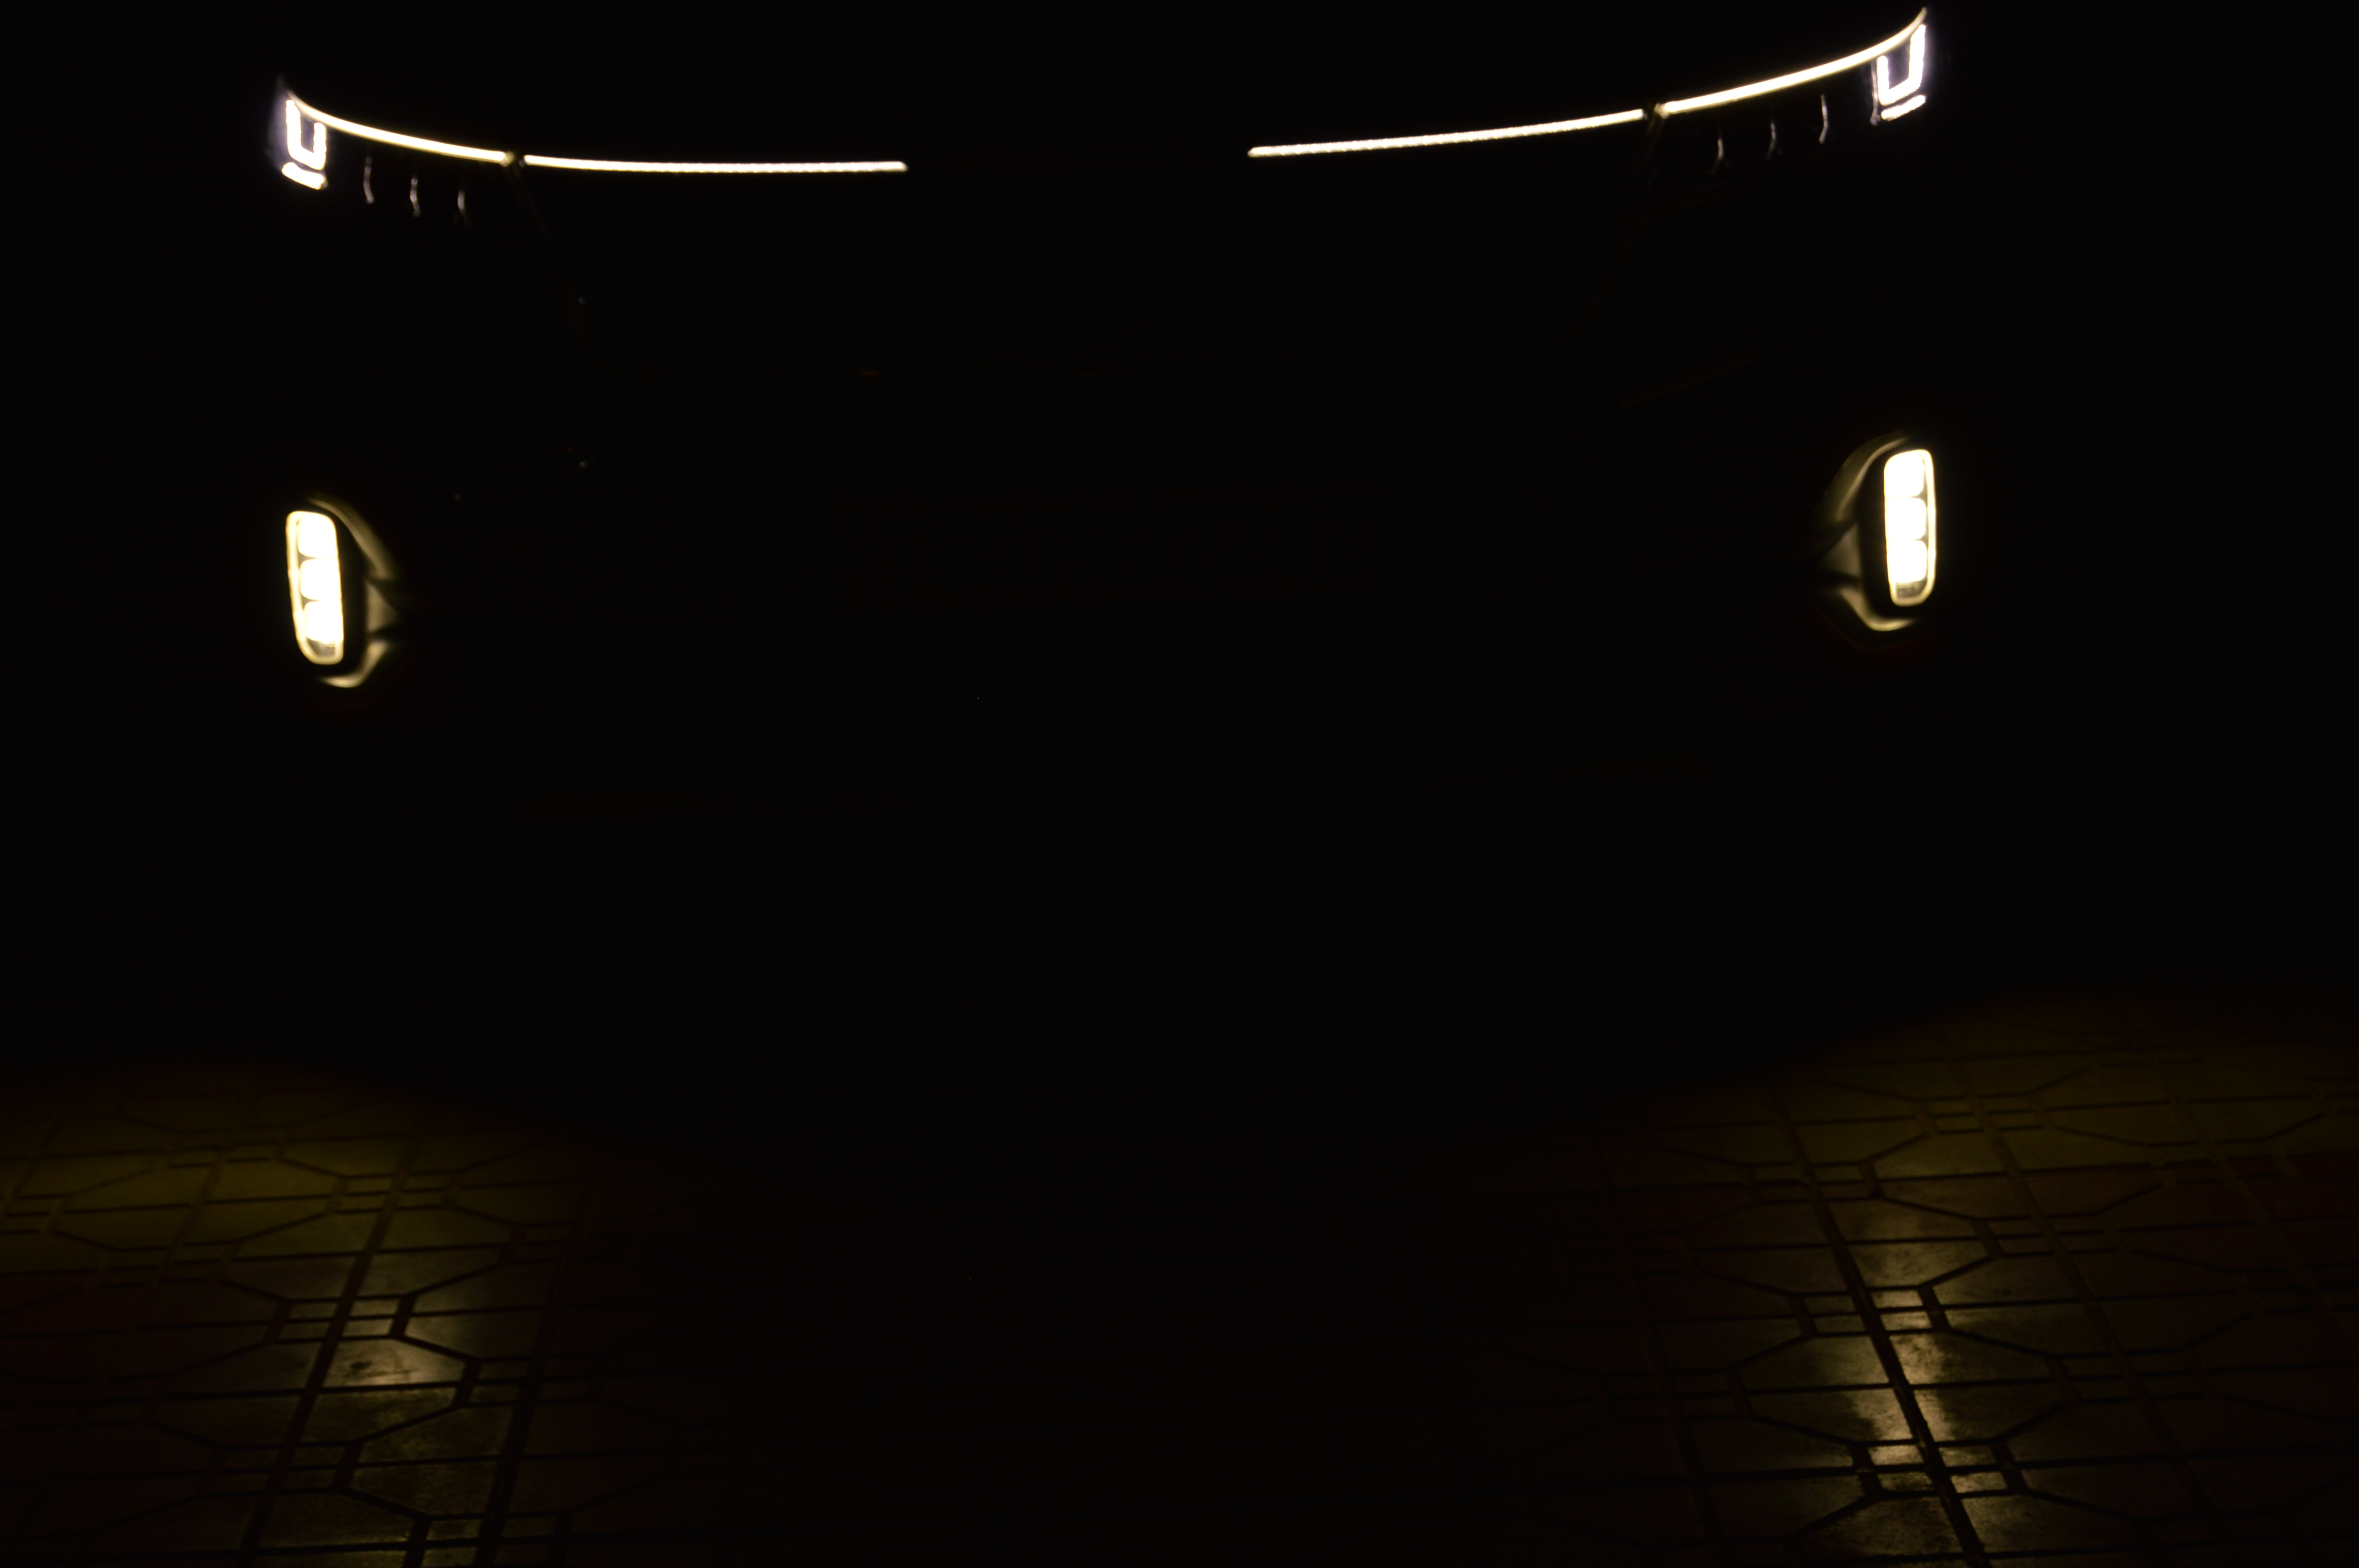Glare: (259, 486, 395, 677), (1841, 430, 1960, 605)
